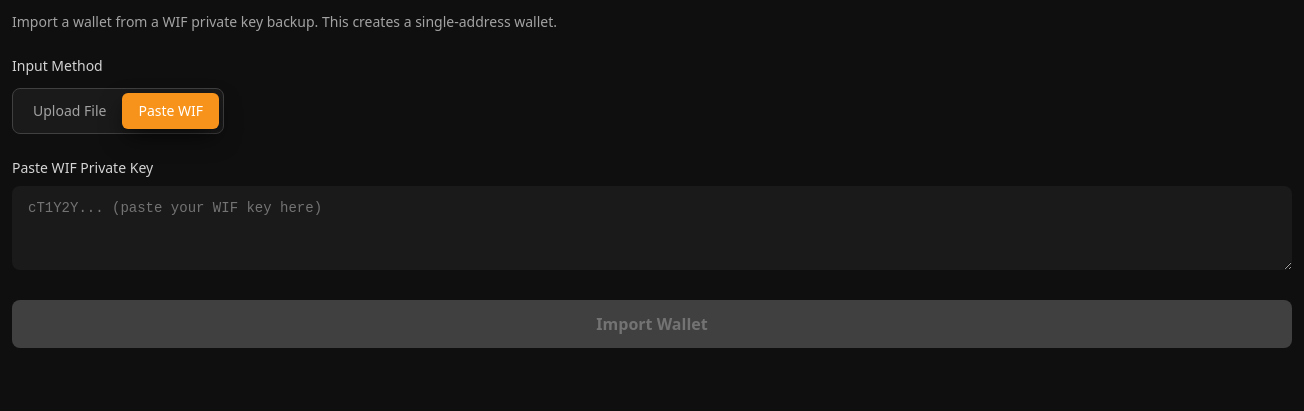
Test case: ImportPrivateKey Component › WIF Paste Input Validation › shows error for invalid WIF format
In the text box with placeholder "cT1Y2Y... (paste your WIF key here)": x=652, y=228 x1=12 y1=186 x2=1292 y2=270, type "invalid_wif_string"
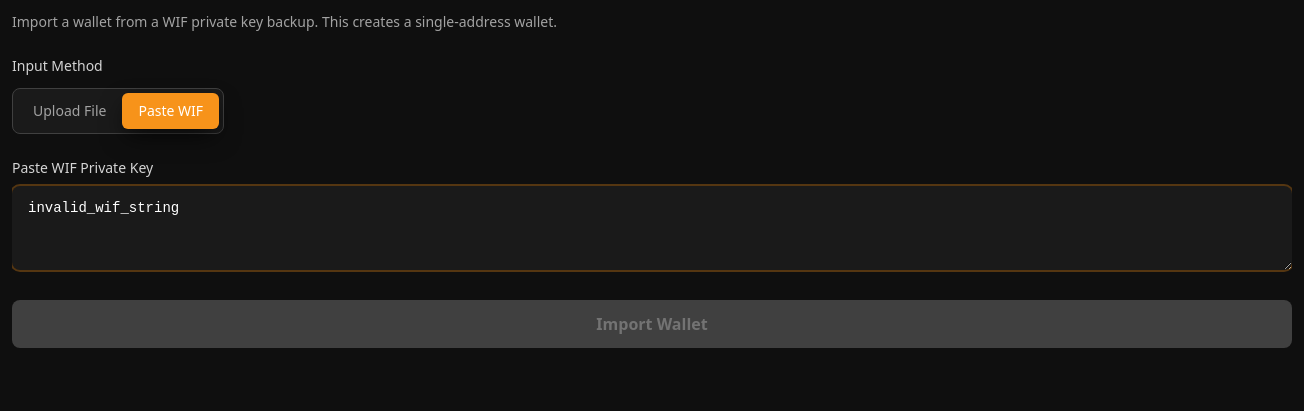
Press Tab
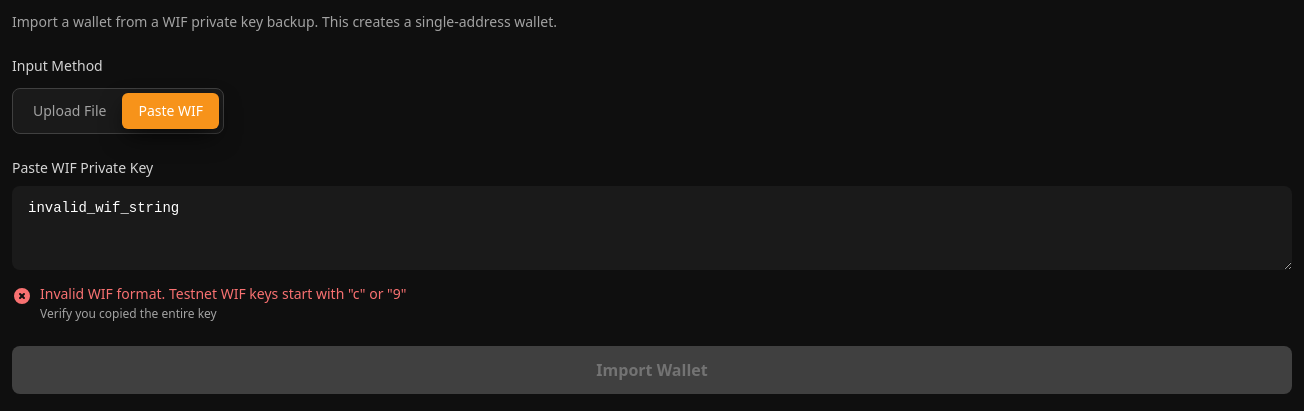
Result: the text "Invalid WIF format. Testnet WIF keys start with \"c\" or \"9\"" is shown at x1=40 y1=284 x2=406 y2=304
